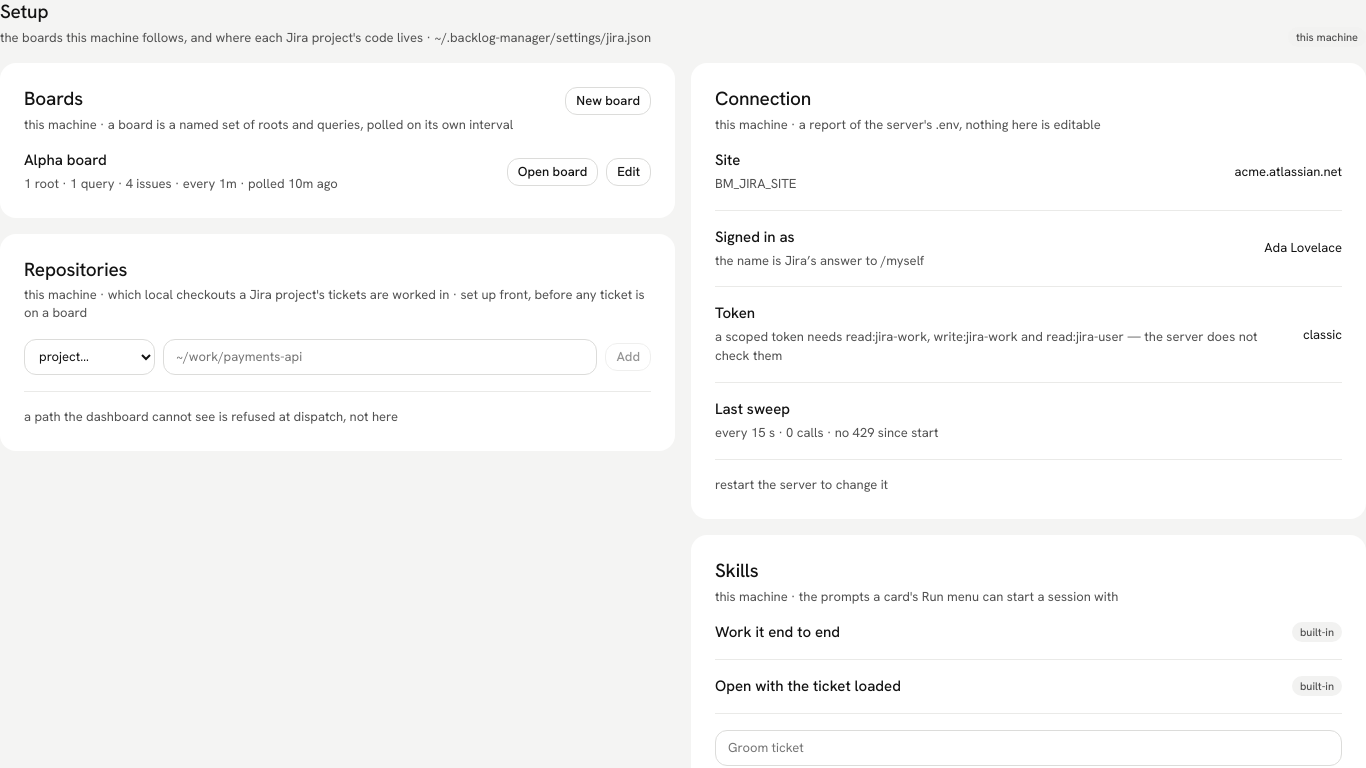
the board sheet — new › opens titled for a new board, interval 1m, `Create board` disabled until a name and a root
This screenshot has width=1366, height=768.
Expected: the heading "Boards" is shown, [24,86,83,111]
Click the button "New board" at (608, 101), box [565,87,651,115]
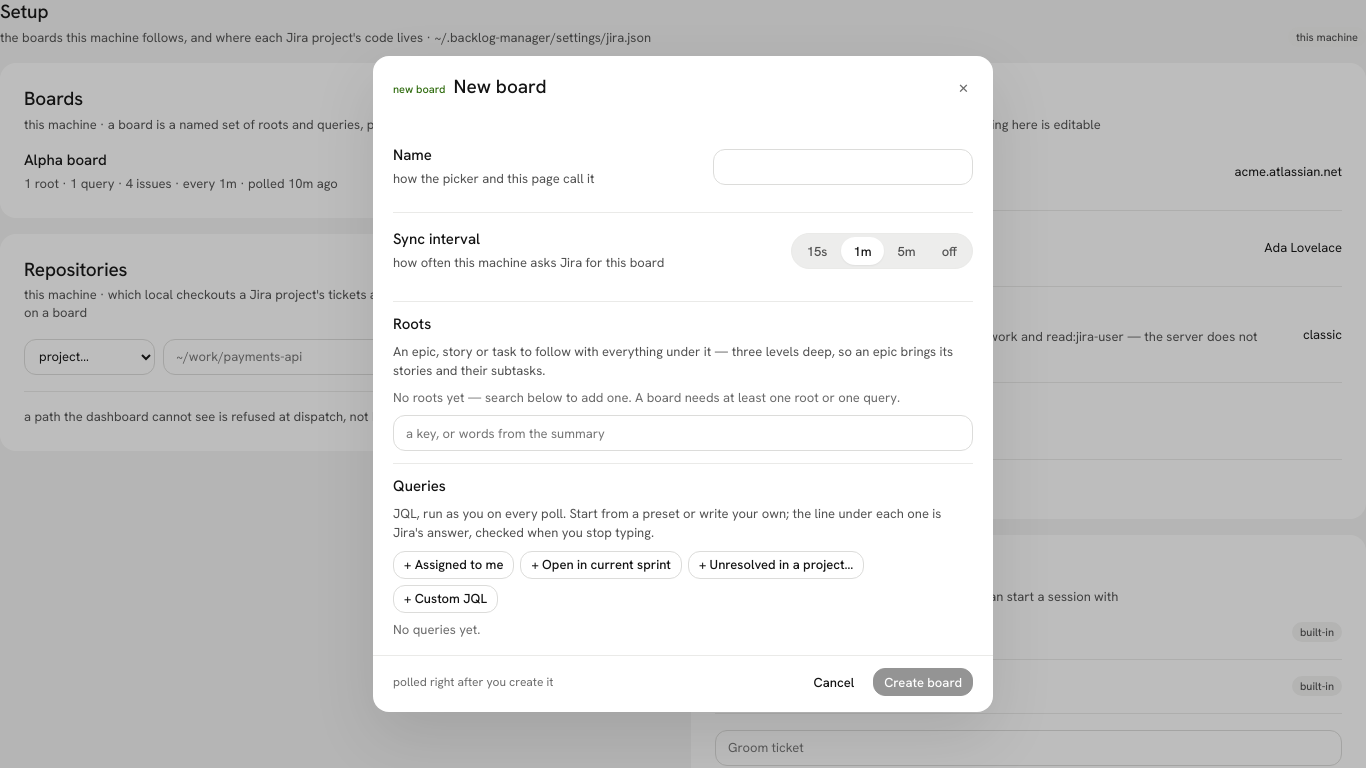
Now the button "Create board" is disabled, box [873,668,973,696]
Type "Sprint 43" into the field named "Board name" at (843, 166), box [713,148,973,184]
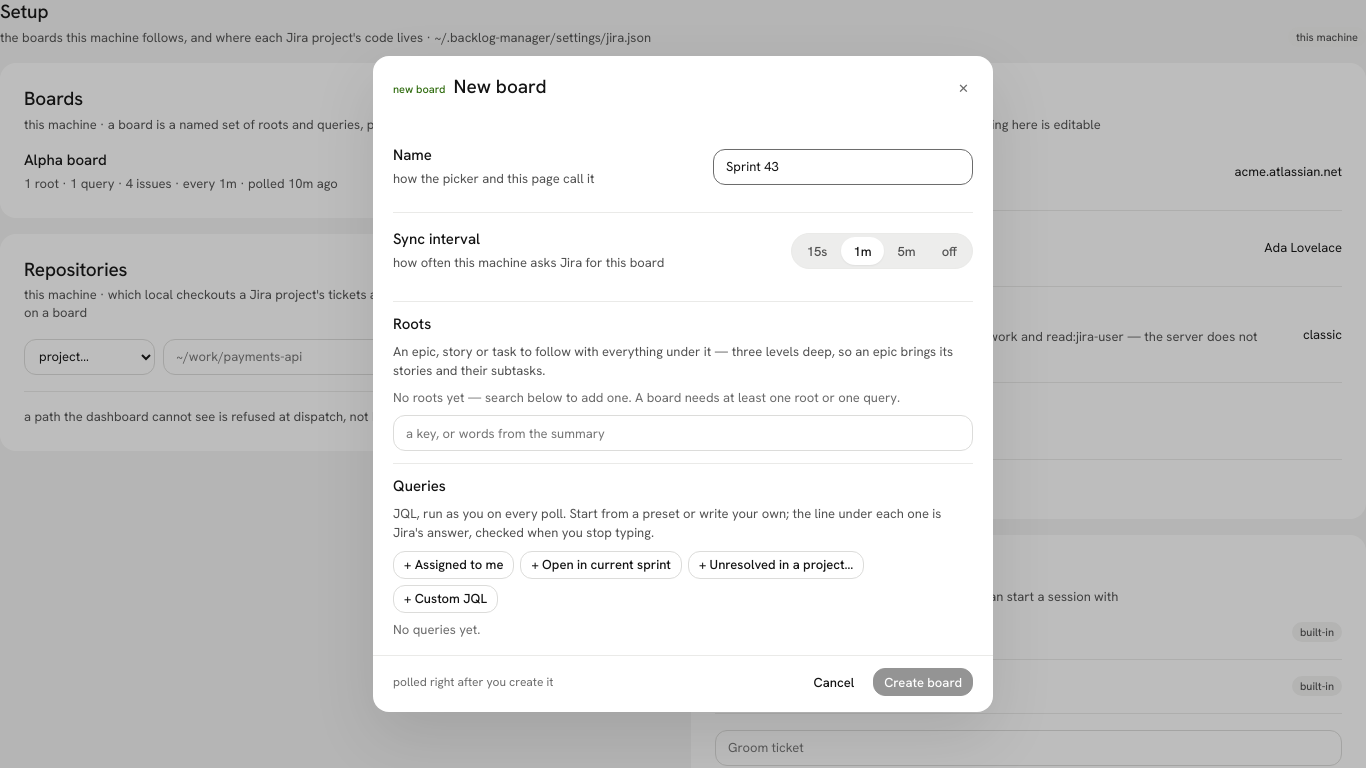
Now the button "Create board" is disabled, box [873,668,973,696]
Type "pay" into the field named "Search issues" at (683, 433), box [393,415,973,451]
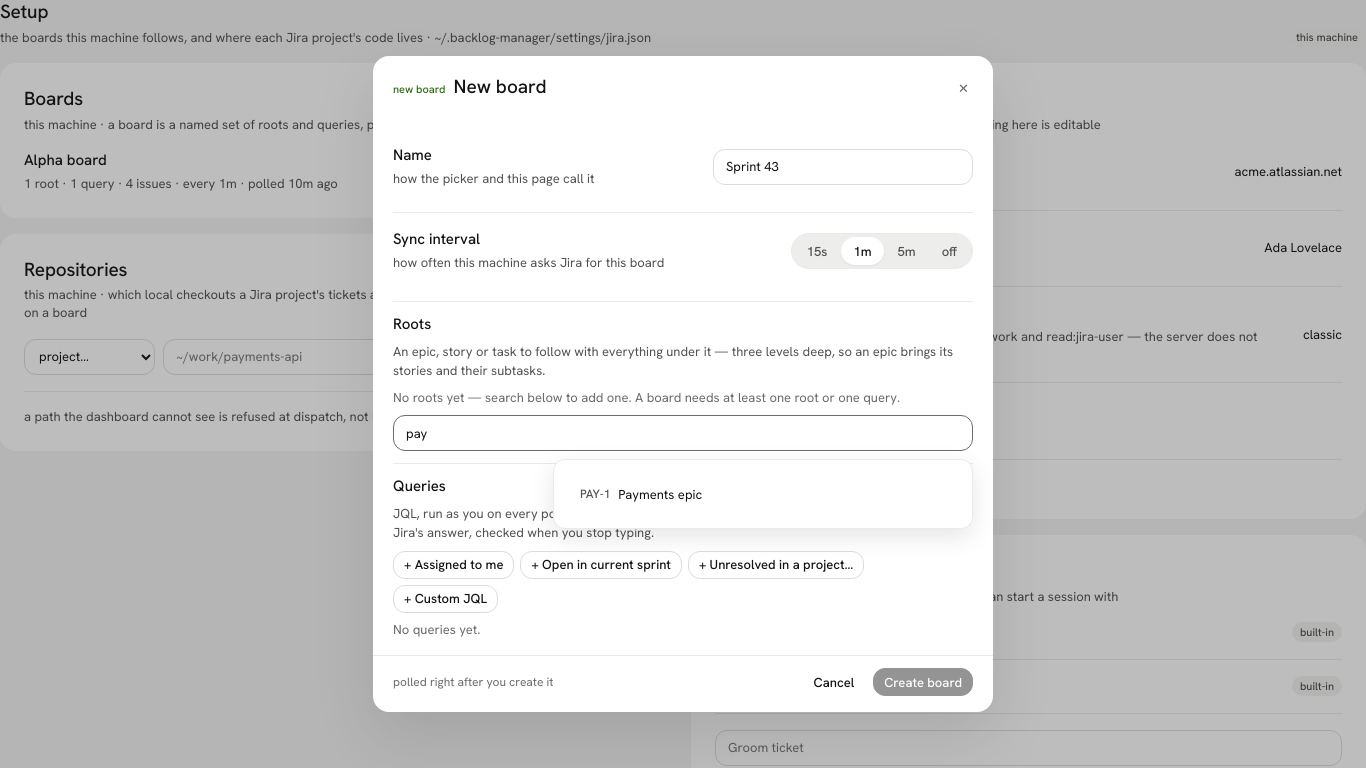
Click the button "PAY-1 Payments epic" at (595, 494), box [570,476,956,512]
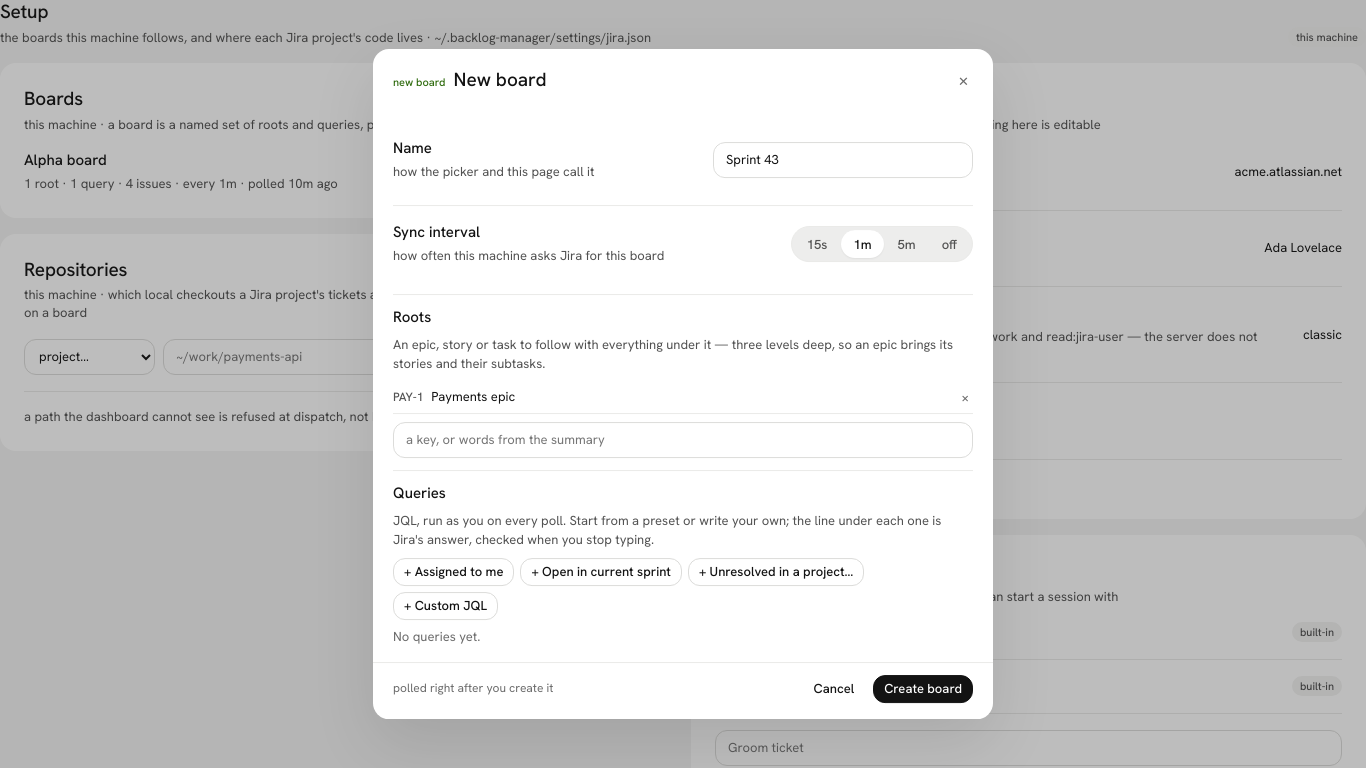
Now the button named "Remove PAY-1" is shown, box [957,386,973,408]
Now the dialog "Matches" is gone
Now the button "Create board" is enabled, box [873,675,973,703]
